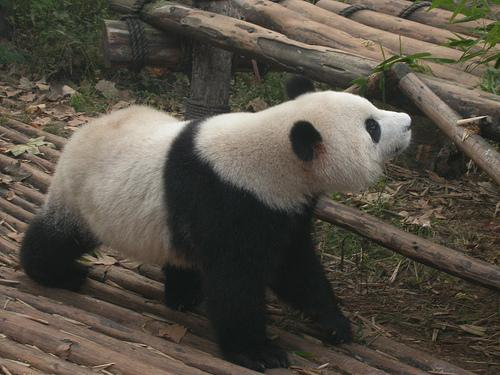panda: (20, 77, 410, 370)
